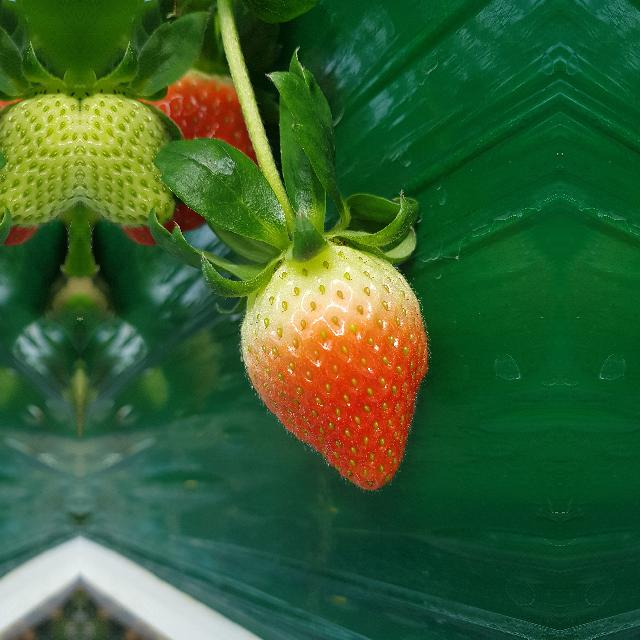Health_25: (81, 87, 173, 231), (0, 87, 79, 231)
Health_75: (238, 246, 430, 492)
